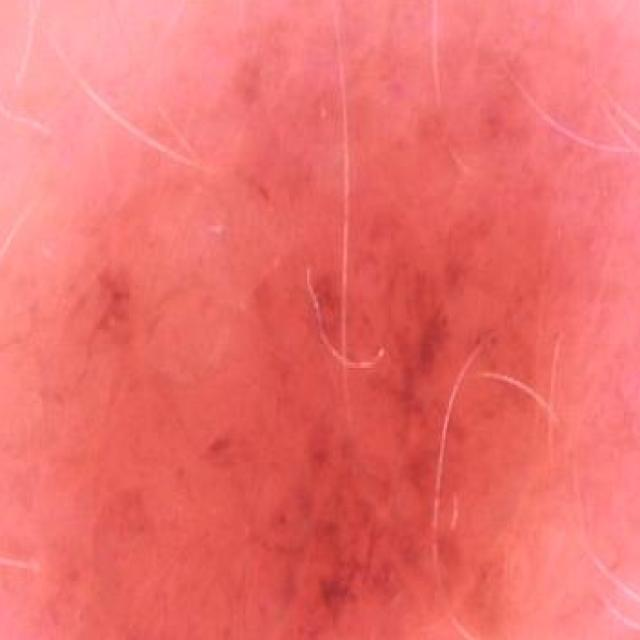NV: (0, 129, 613, 640)
